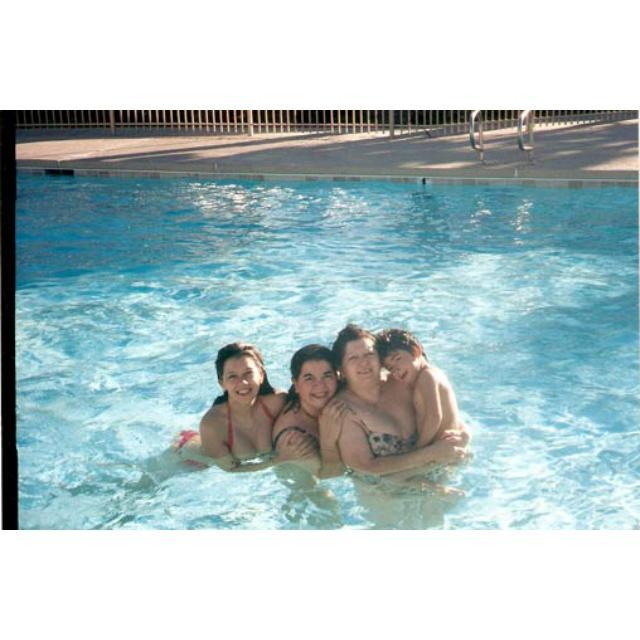human: (331, 324, 456, 473), (170, 340, 295, 468), (383, 327, 469, 466), (274, 336, 336, 464)
